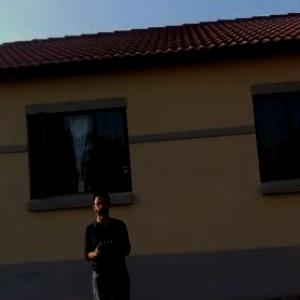follow: (80, 186, 139, 299)
